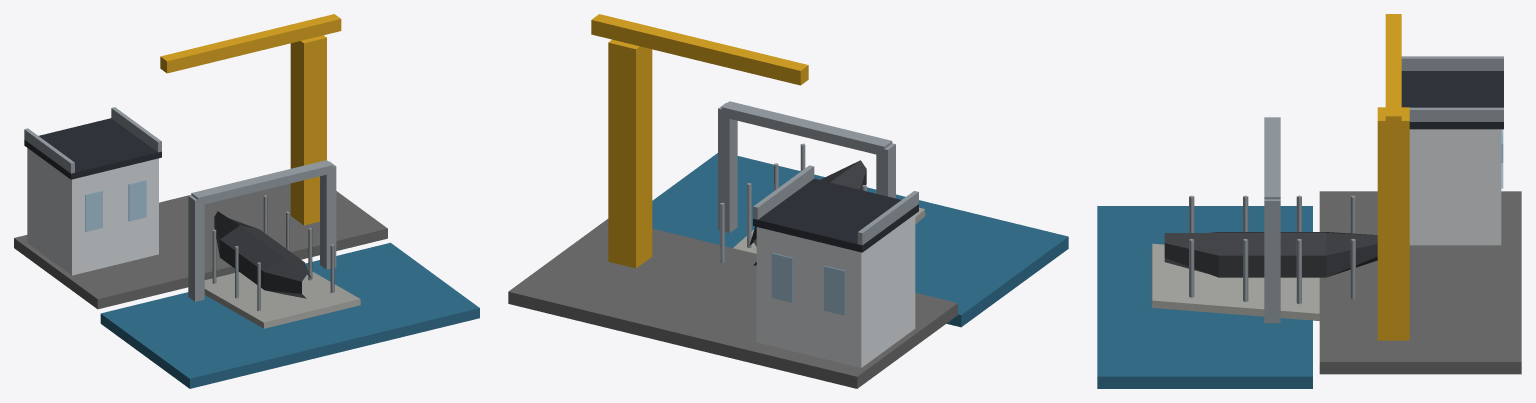
The model's file is bld_special_shipyard_a08.glb.
The picture shows the model from 3 angles, left to right: view 1: azimuth 30°, elevation 25°; view 2: azimuth 150°, elevation 25°; view 3: azimuth 270°, elevation 25°; orthographic projection. The views are drawn at different scales.
Parts seen in each view (by area): view 1: body, crane; view 2: body, crane; view 3: body, crane.
Part boxes in pixels (box(x1,y1,x2,y2)): body: box(14, 107, 479, 388); crane: box(160, 14, 341, 225); body: box(508, 101, 1068, 388); crane: box(591, 14, 808, 268); body: box(1097, 56, 1521, 388); crane: box(1377, 14, 1409, 340).
Size of what is drawn, in the model's own units: 15 by 10.7 by 15.75.
